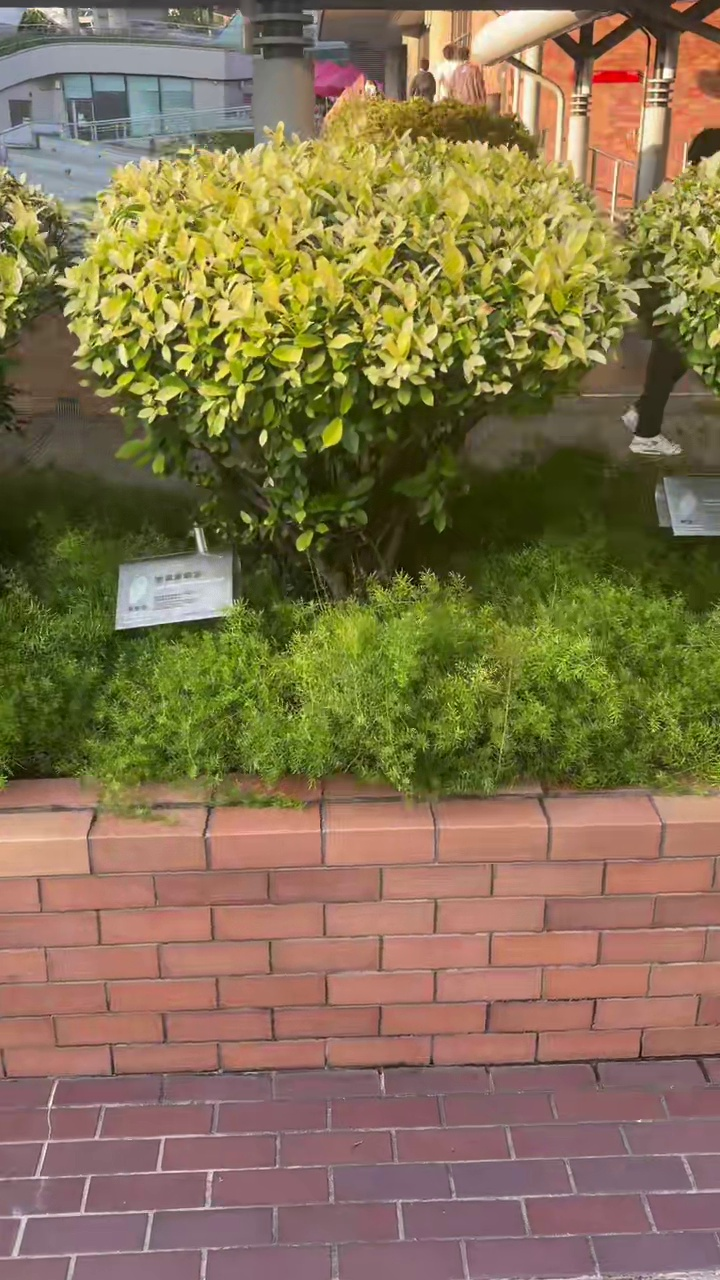Golden-leaves Fig: (65, 132, 635, 594)
